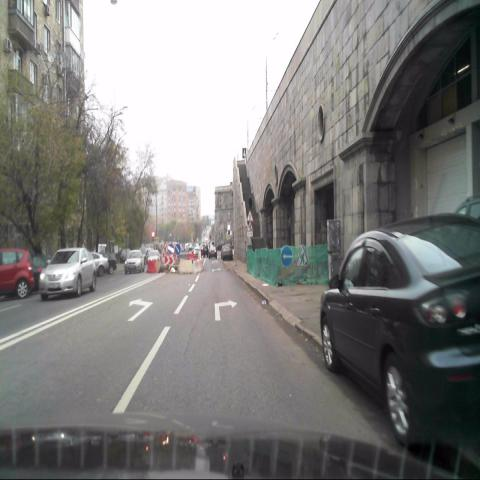4_1_2_2: (281, 245, 292, 266)
